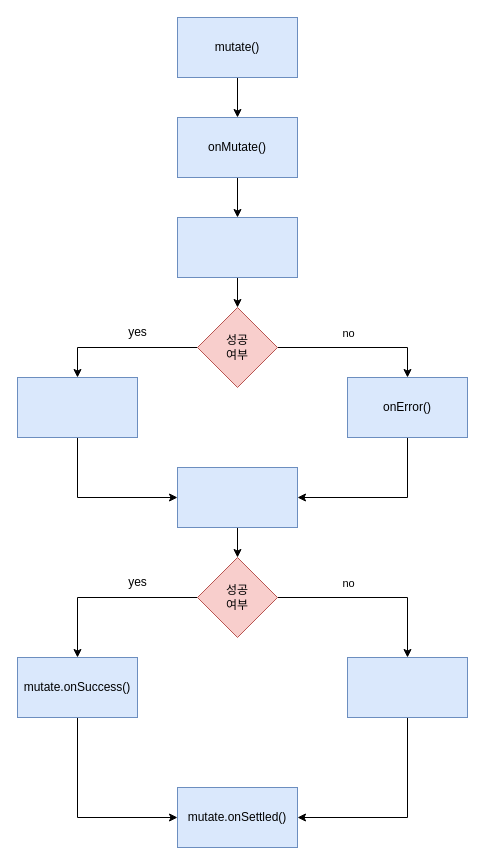
Image size: 485x865. Some labels were removed from this diagram. Each missing label, with the centre of its shape:
"mutate.onError()" goes at [407,687].
"mutationFn()" goes at [237,247].
"onSettled()" goes at [237,497].
"onSuccess()" goes at [77,407].
